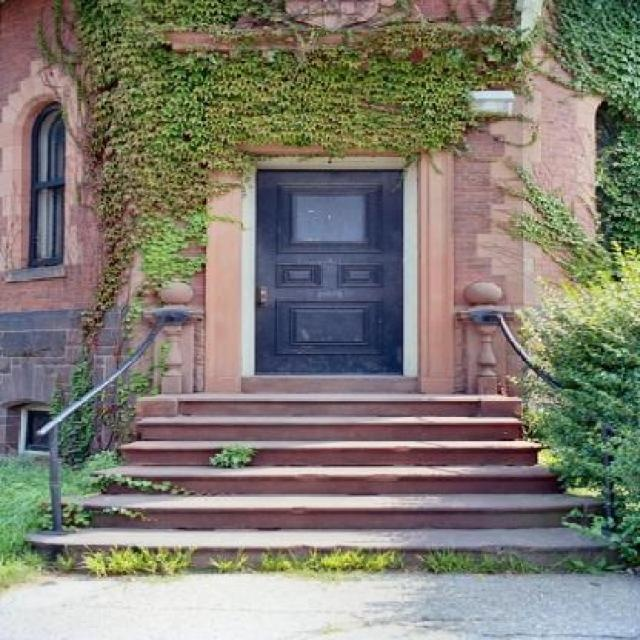stair: (95, 338, 574, 574)
